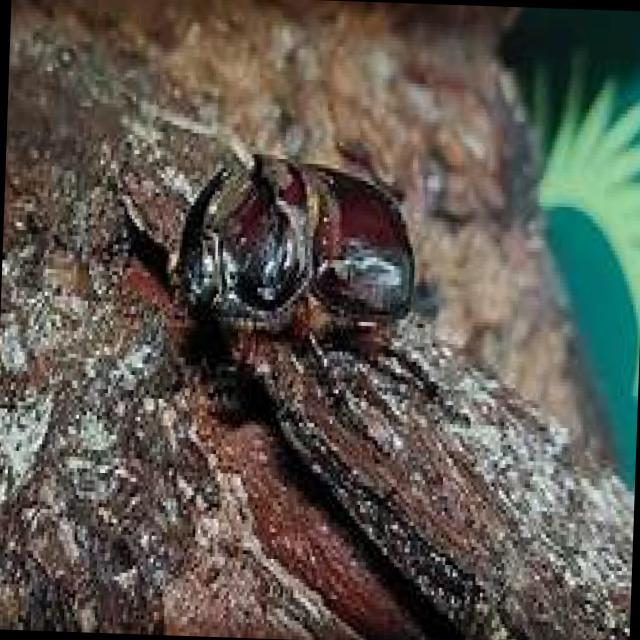Rhino-beetle: (132, 146, 464, 371)
